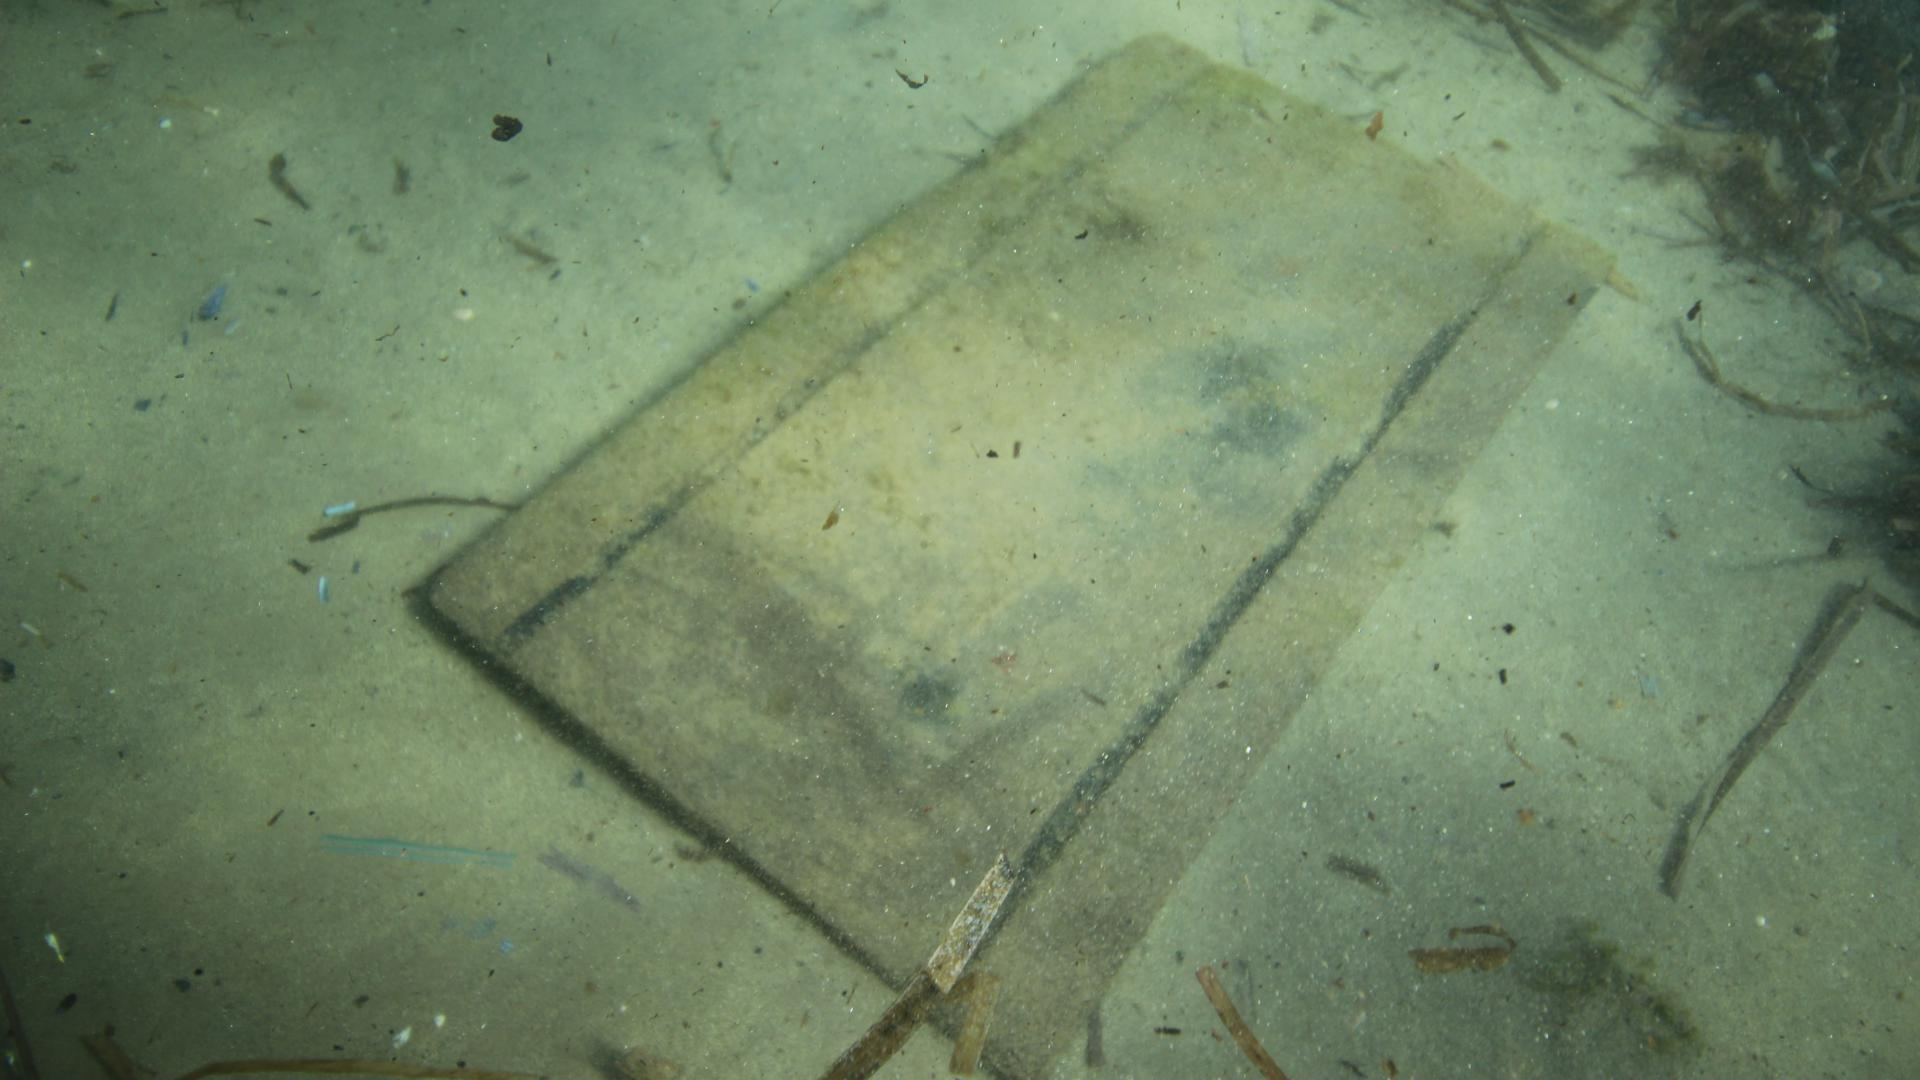wood: (422, 33, 1619, 1080)
